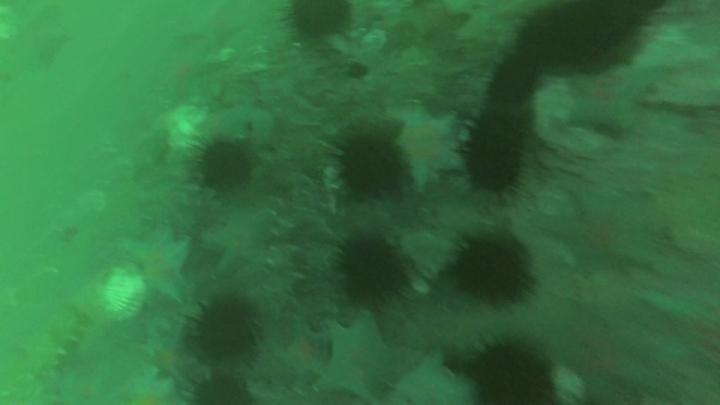echinus: (515, 2, 654, 73), (467, 338, 556, 404), (460, 113, 529, 197), (451, 235, 533, 305), (334, 235, 409, 304), (334, 133, 406, 201), (190, 295, 261, 363), (195, 139, 255, 192), (485, 53, 541, 107), (283, 1, 355, 42), (187, 371, 253, 404)
holothurian: (25, 303, 91, 378), (260, 213, 306, 307)
scallop: (96, 265, 149, 322)
starfish: (547, 187, 665, 277), (555, 55, 679, 139), (315, 314, 402, 403), (636, 284, 719, 370), (393, 104, 465, 192), (55, 353, 179, 404), (122, 226, 194, 304), (202, 207, 277, 275), (1, 9, 71, 77), (387, 354, 476, 405), (276, 322, 332, 381), (179, 8, 249, 51), (110, 370, 179, 404), (149, 335, 192, 382)
